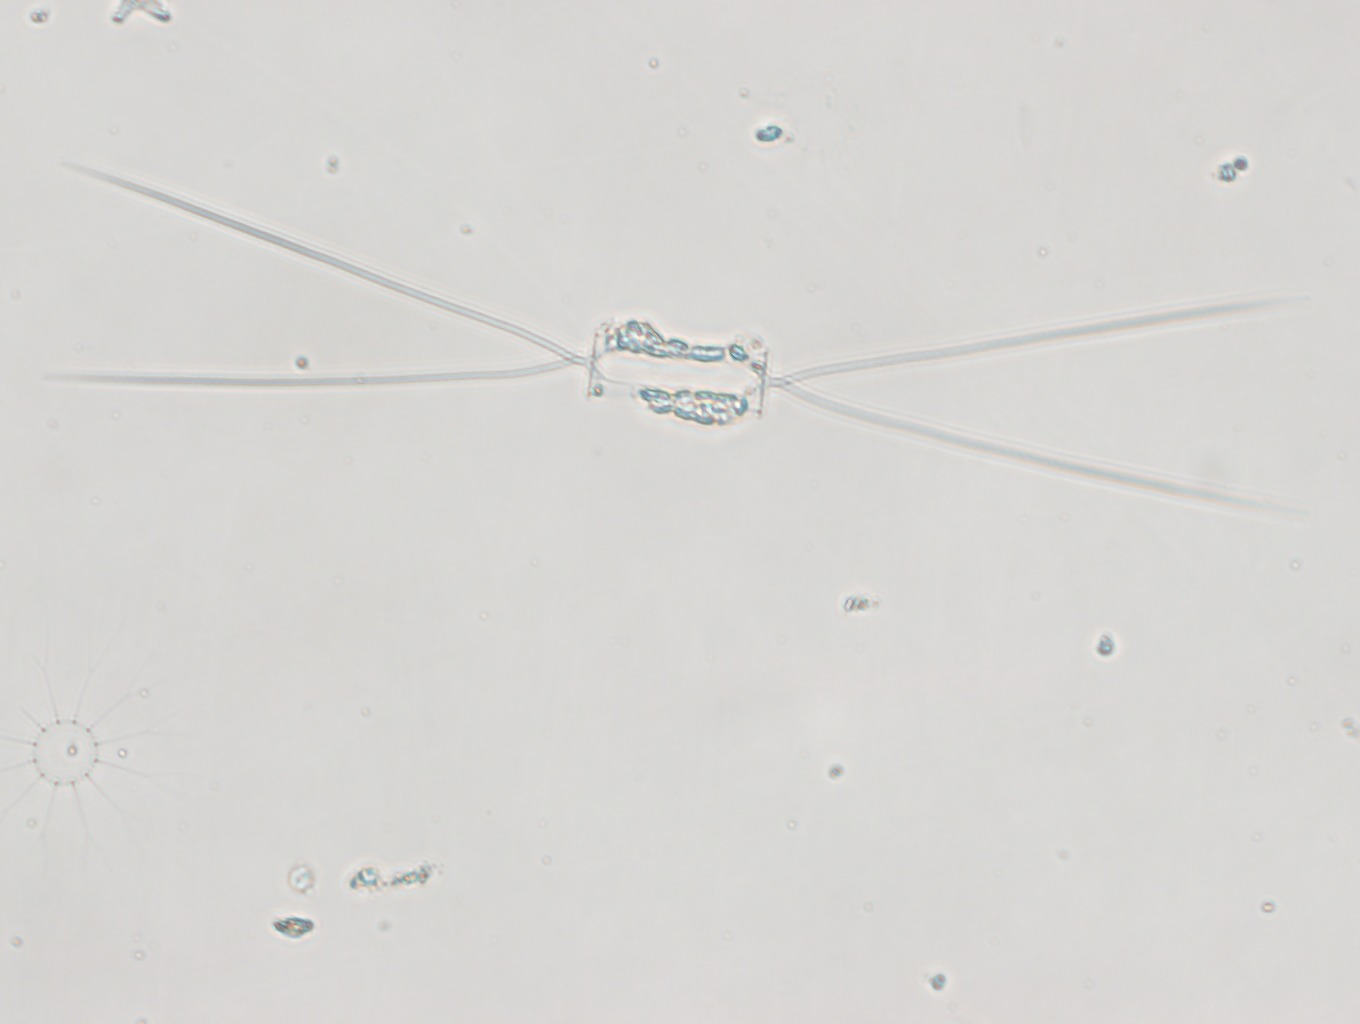chaetoceros: (49, 155, 1333, 531)
